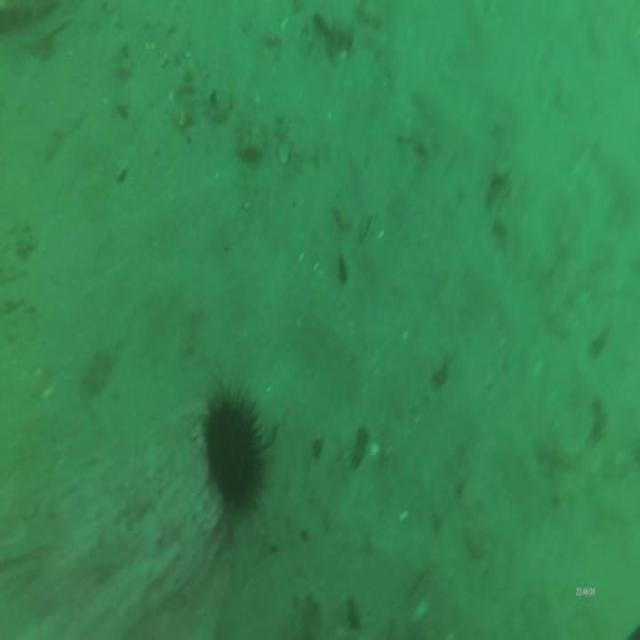echinus: (199, 379, 268, 533)
